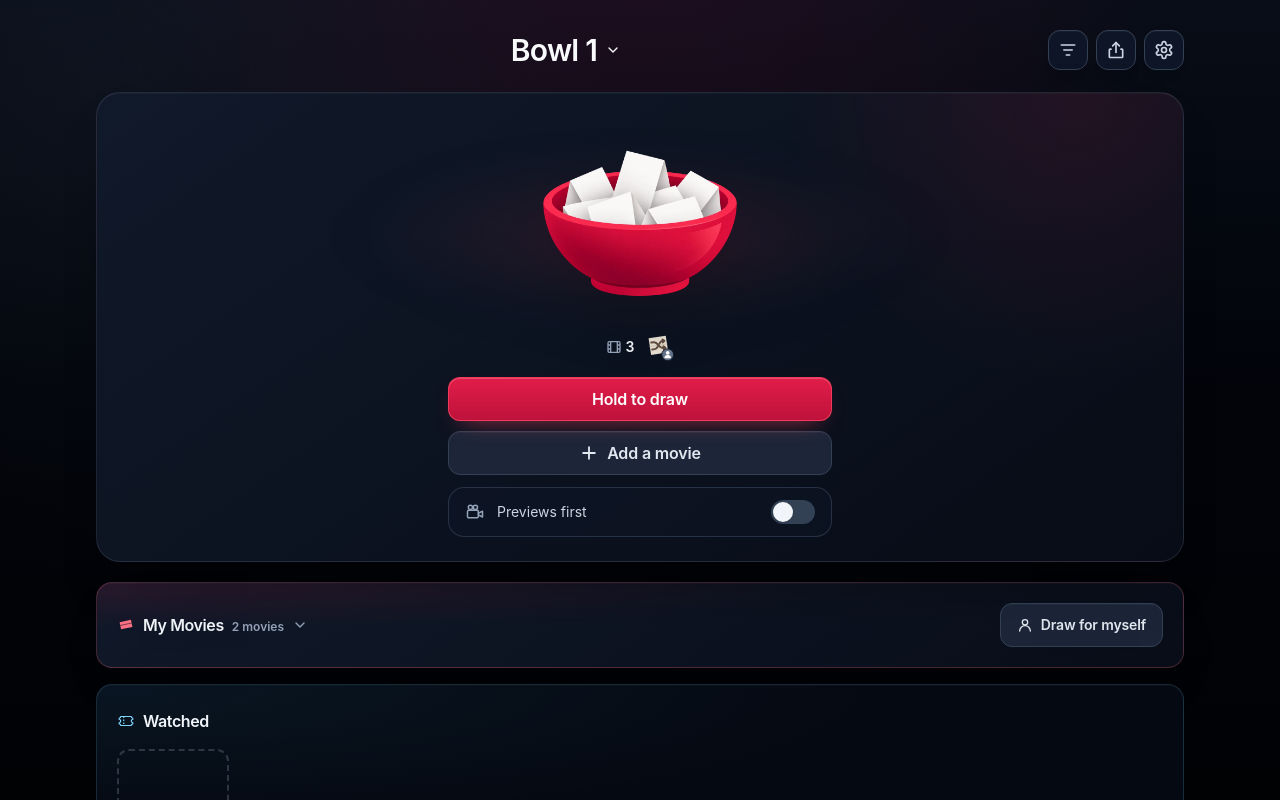
Test: BowlDashboard draw pool count › shows the live eligible count in the filters overlay with reset and done
Expected: the text "Bowl 1" is shown, x1=511 y1=32 x2=597 y2=68
Click the button named "filters" at {"x": 1068, "y": 50}, box x1=1048 y1=30 x2=1088 y2=70
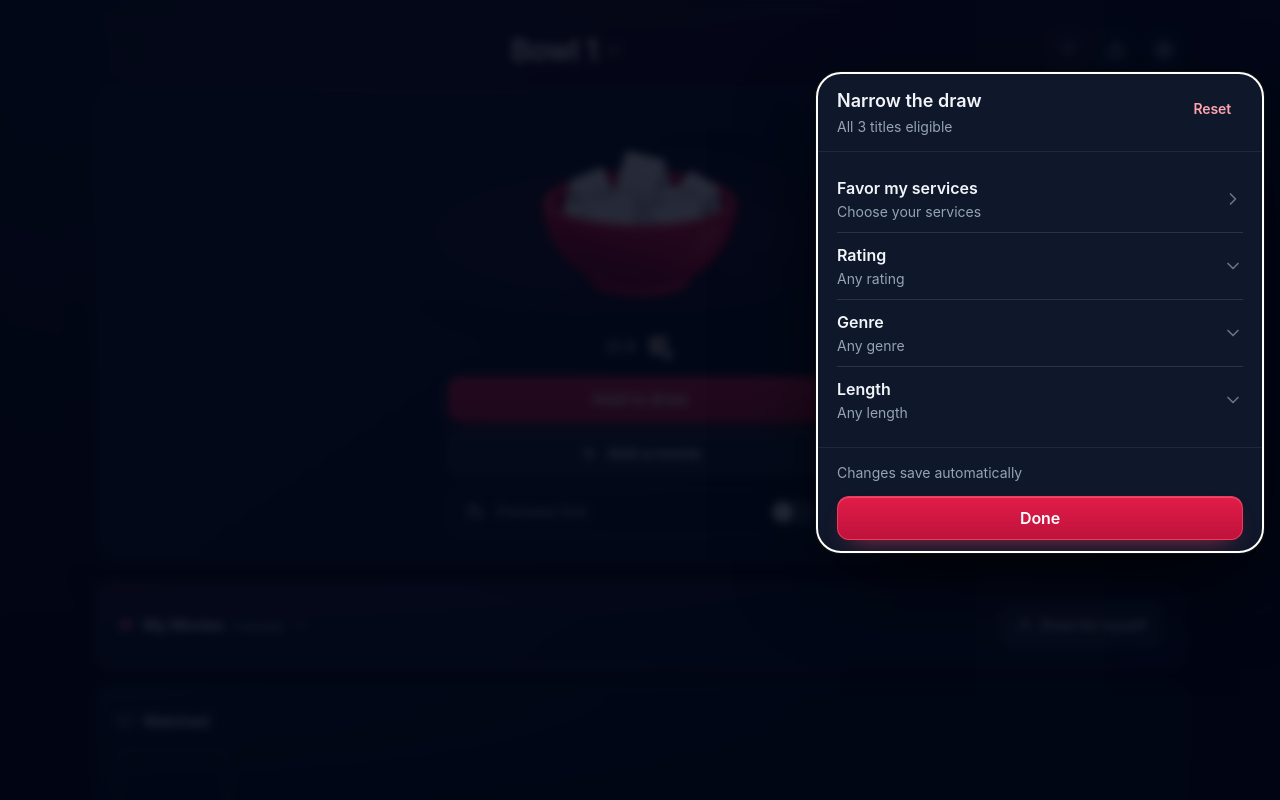
Click the button "Genre Any genre" at {"x": 860, "y": 322}, box x1=837 y1=300 x2=1243 y2=366
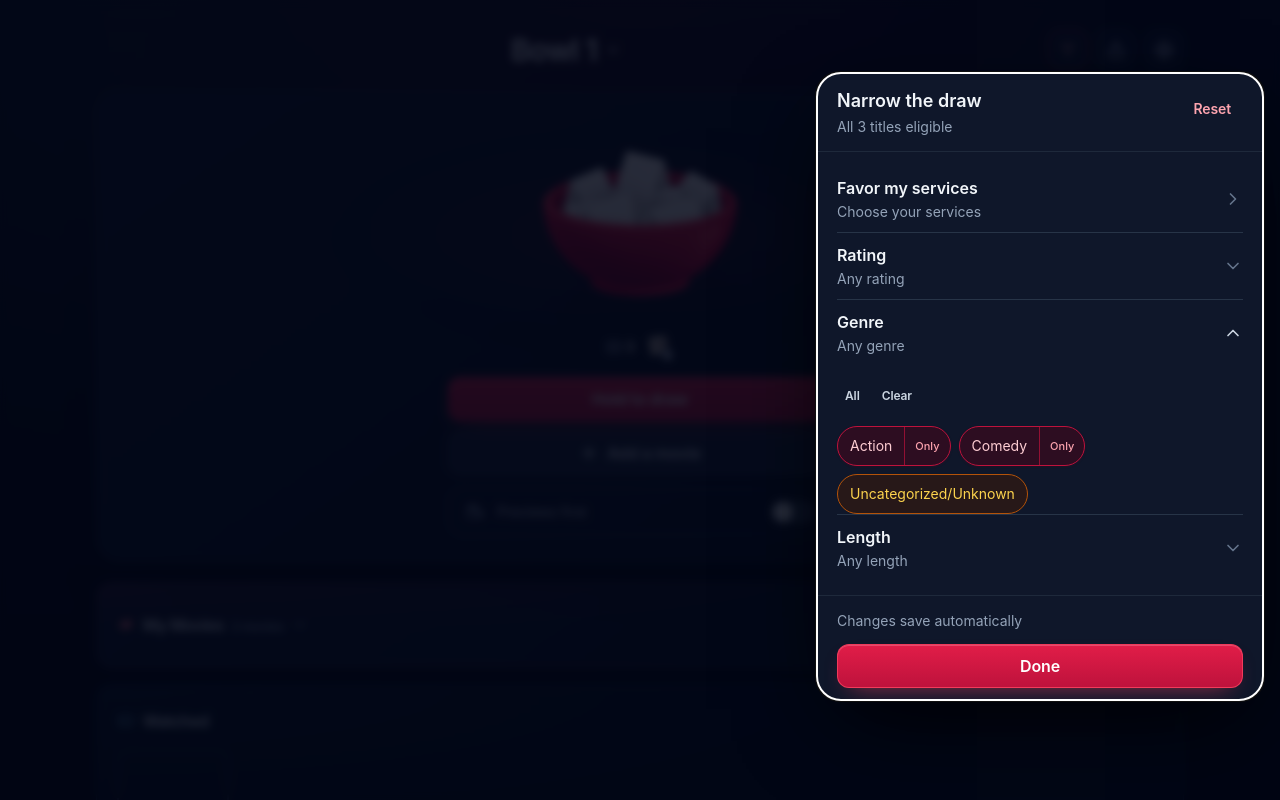
Click the 2nd button "Only" at {"x": 1062, "y": 446}, box x1=1039 y1=427 x2=1084 y2=465
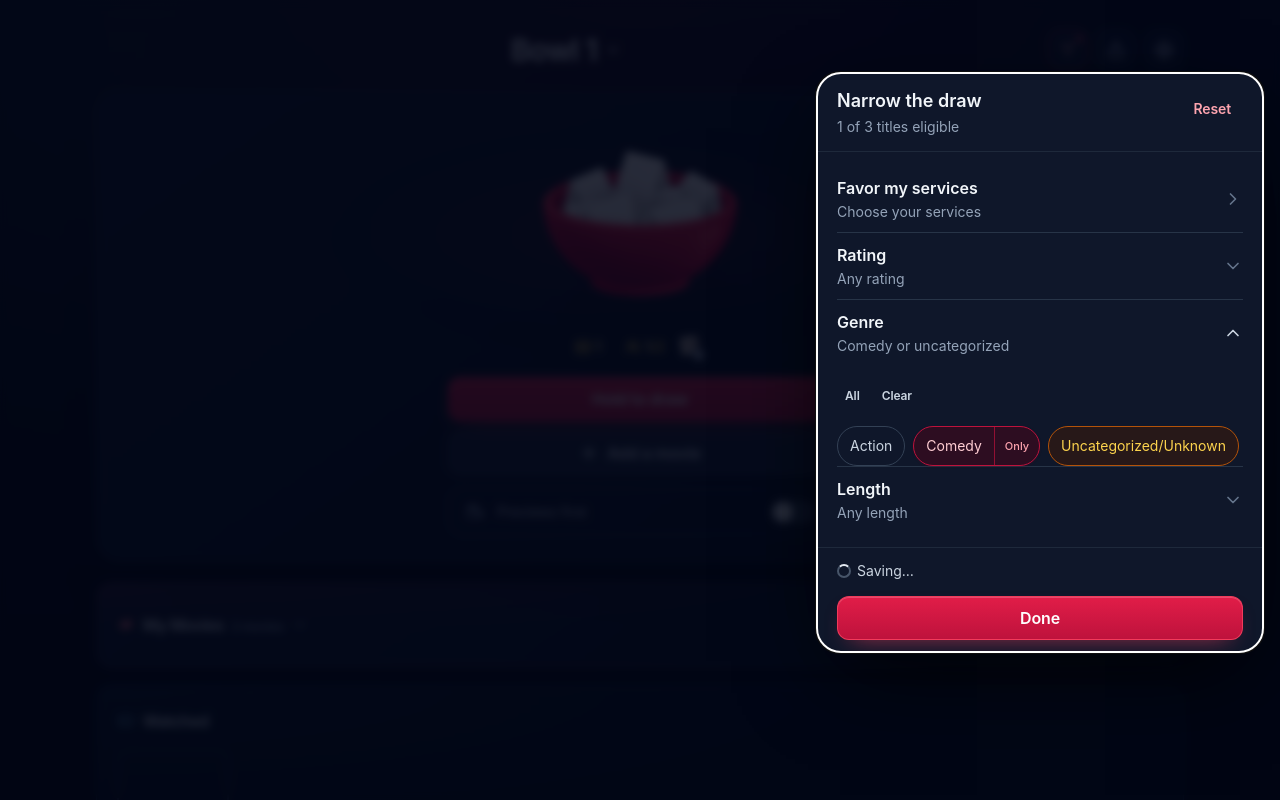
Now the dialog "Narrow the draw" is shown, box x1=816 y1=72 x2=1264 y2=653
Now the text "1 of 3 titles eligible" is shown, box x1=837 y1=118 x2=959 y2=135
Click the button "Reset" at {"x": 1212, "y": 109}, box x1=1182 y1=87 x2=1243 y2=131
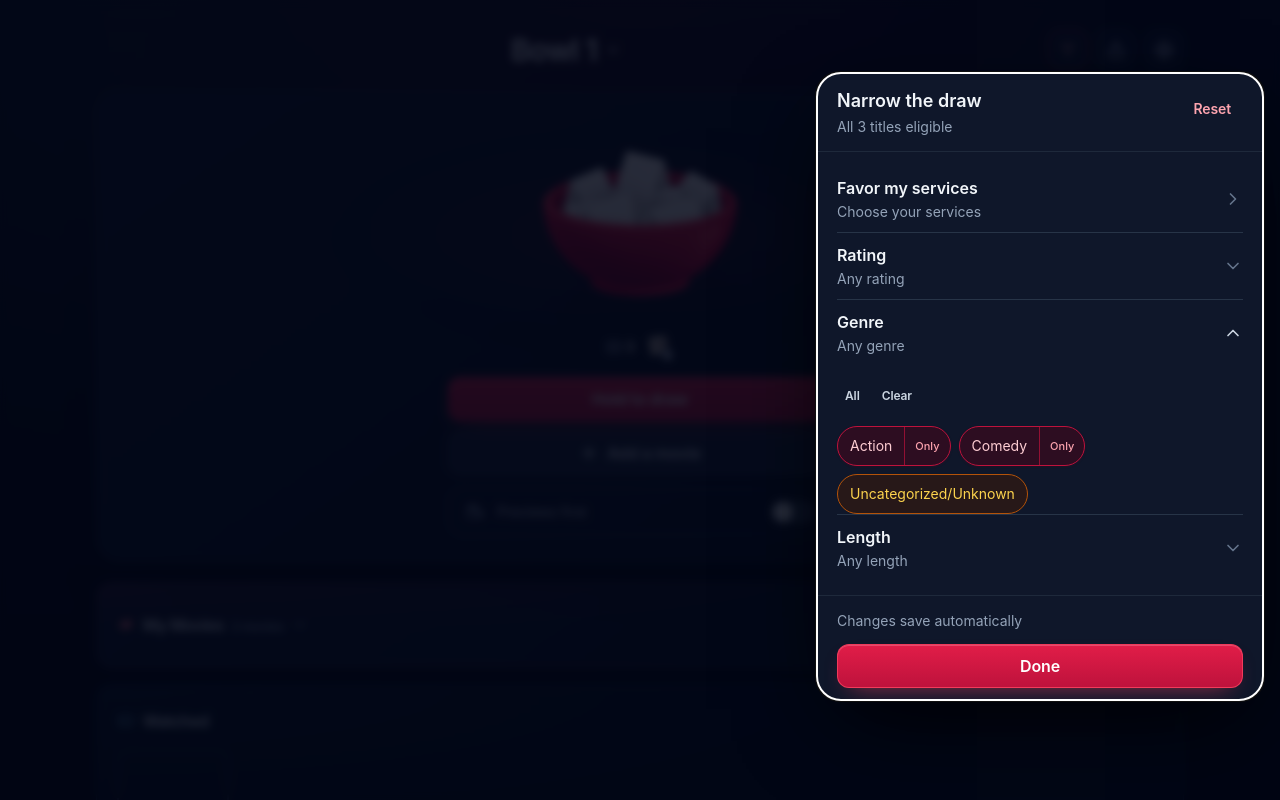
Now the text "All 3 titles eligible" is shown, box x1=837 y1=118 x2=952 y2=135
Click the button "Done" at {"x": 1040, "y": 666}, box x1=837 y1=644 x2=1243 y2=688
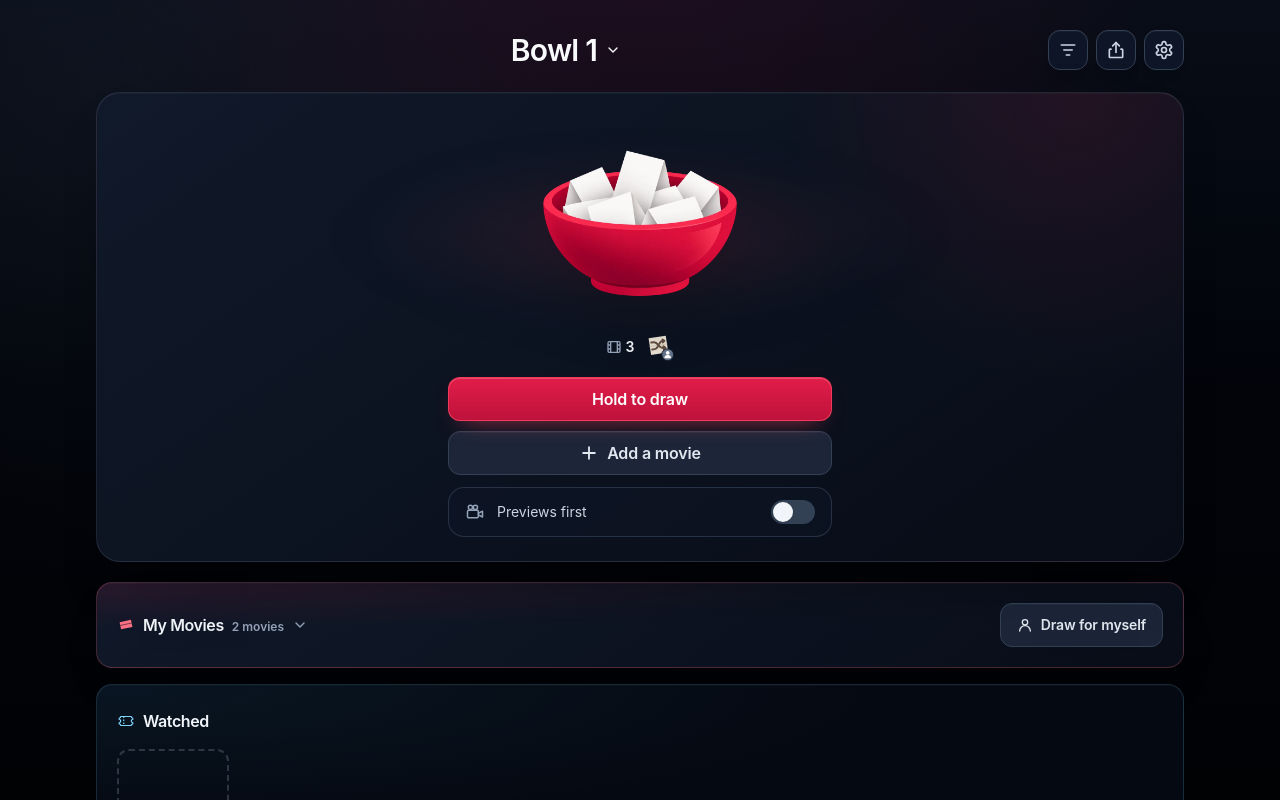
Now the heading "Narrow the draw" is gone
